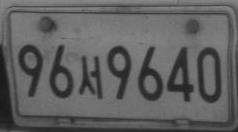0: (196, 46, 222, 104)
4: (166, 46, 194, 102)
6: (137, 45, 163, 102), (48, 44, 74, 99)
9: (106, 45, 132, 100), (18, 43, 43, 97)
서: (78, 56, 103, 99)
